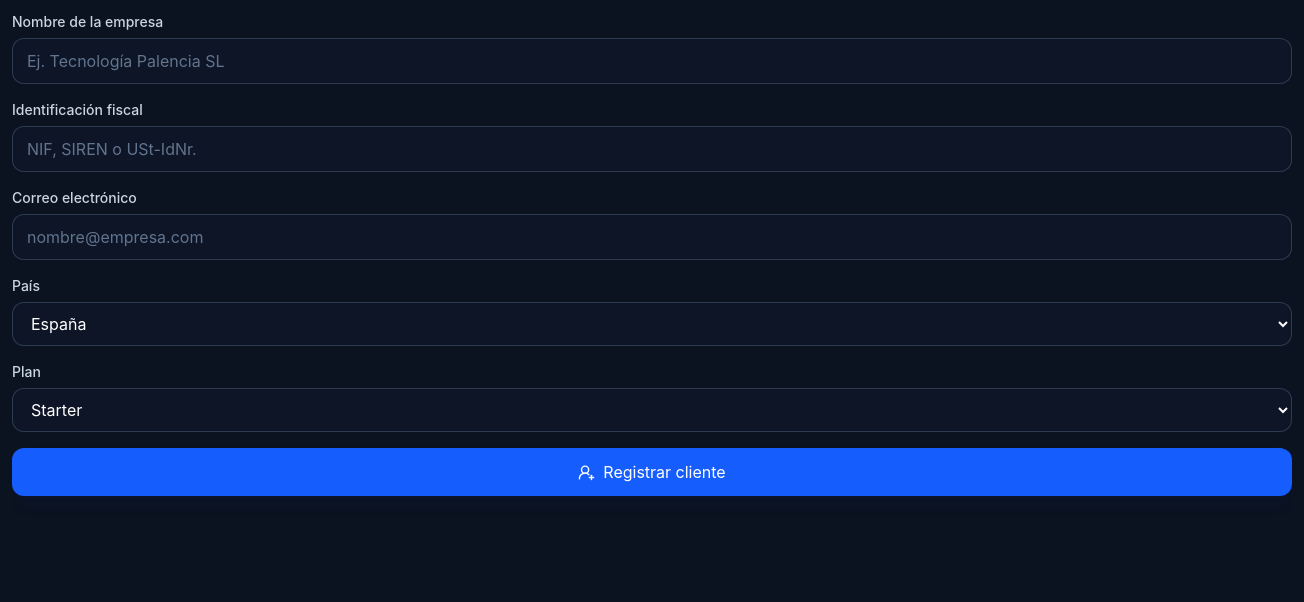
Test: CustomerForm validation feedback › identifies an invalid companyName field
The width and height of the screenshot is (1304, 602).
Step 1. Type "Empresa de prueba" into the field labelled "Nombre de la empresa" → (652, 61), box [12,38,1292,84]
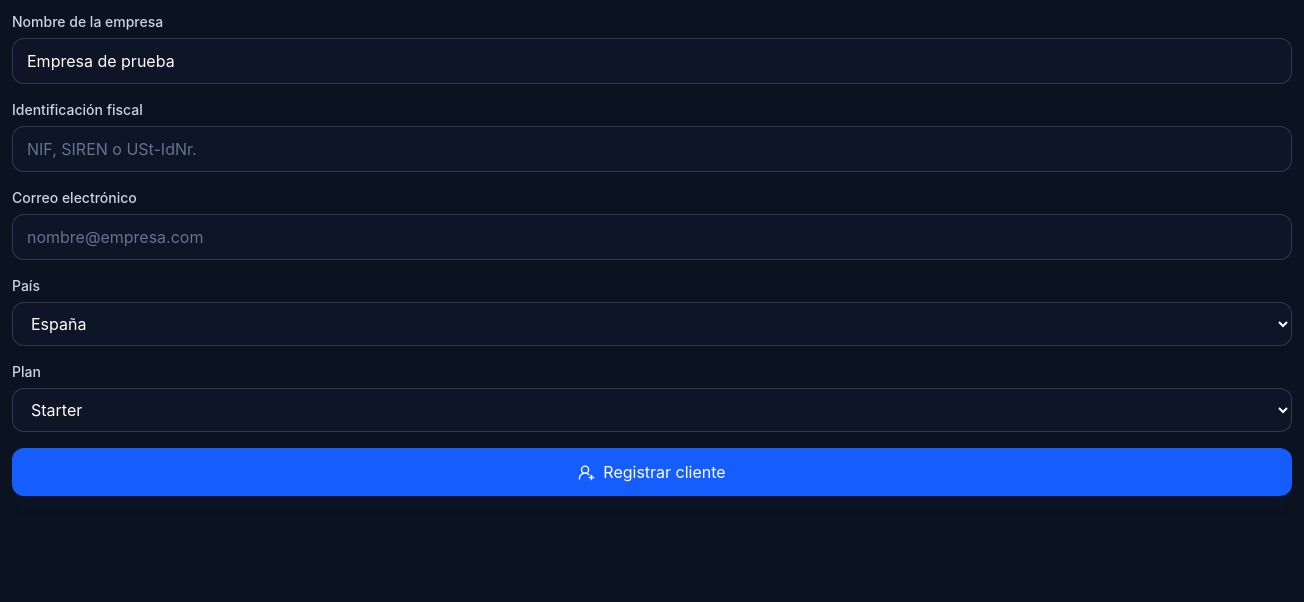
Step 2. Type "12345678Z" into the field labelled "Identificación fiscal" → (652, 149), box [12,126,1292,172]
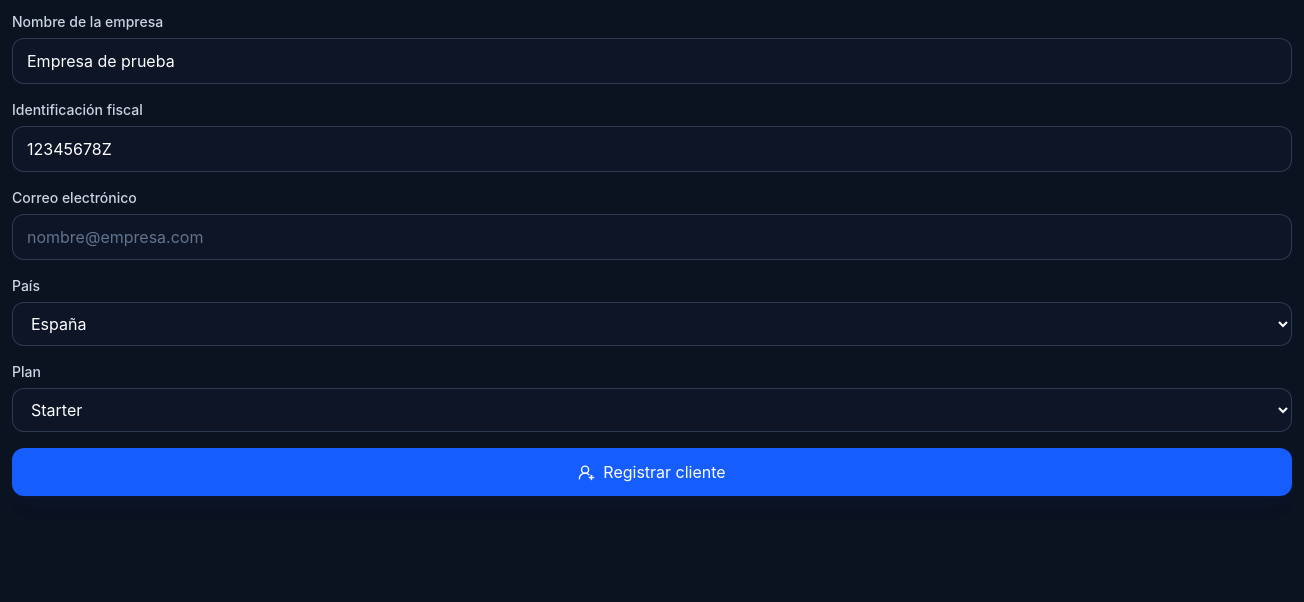
Step 3. Type "contacto@empresa.test" into the field labelled "Correo electrónico" → (652, 237), box [12,214,1292,260]
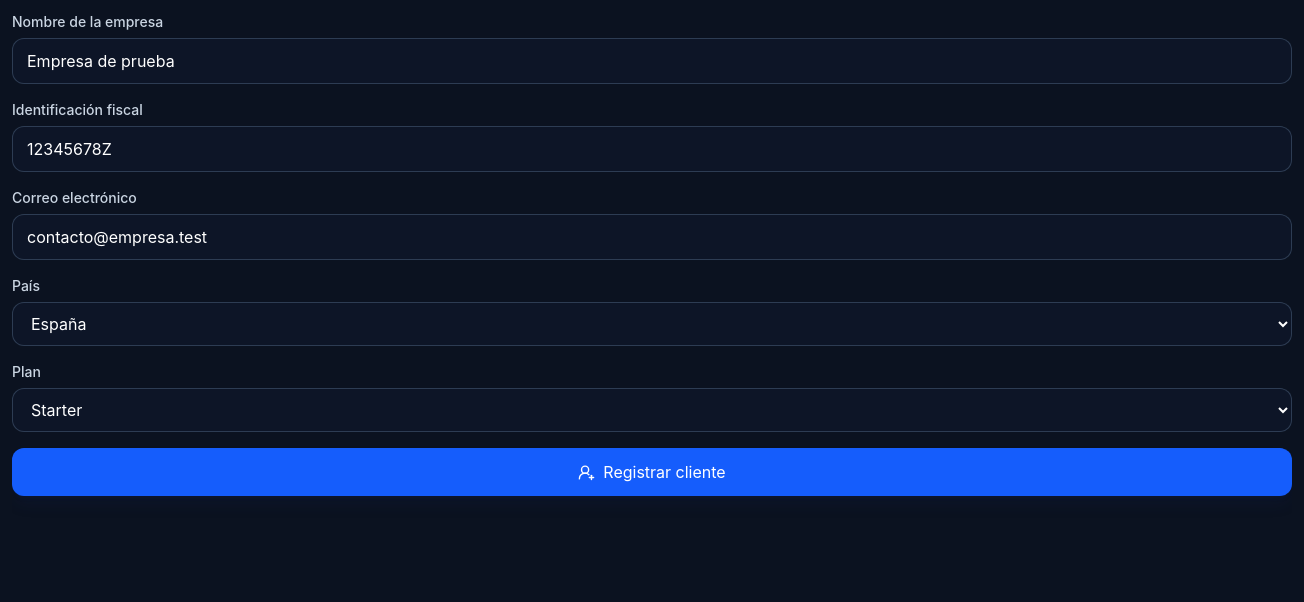
Step 4. Select "España" in the dropdown labelled "País" → (652, 324), box [12,302,1292,346]
Step 5. Submit the form named "Registrar cliente"
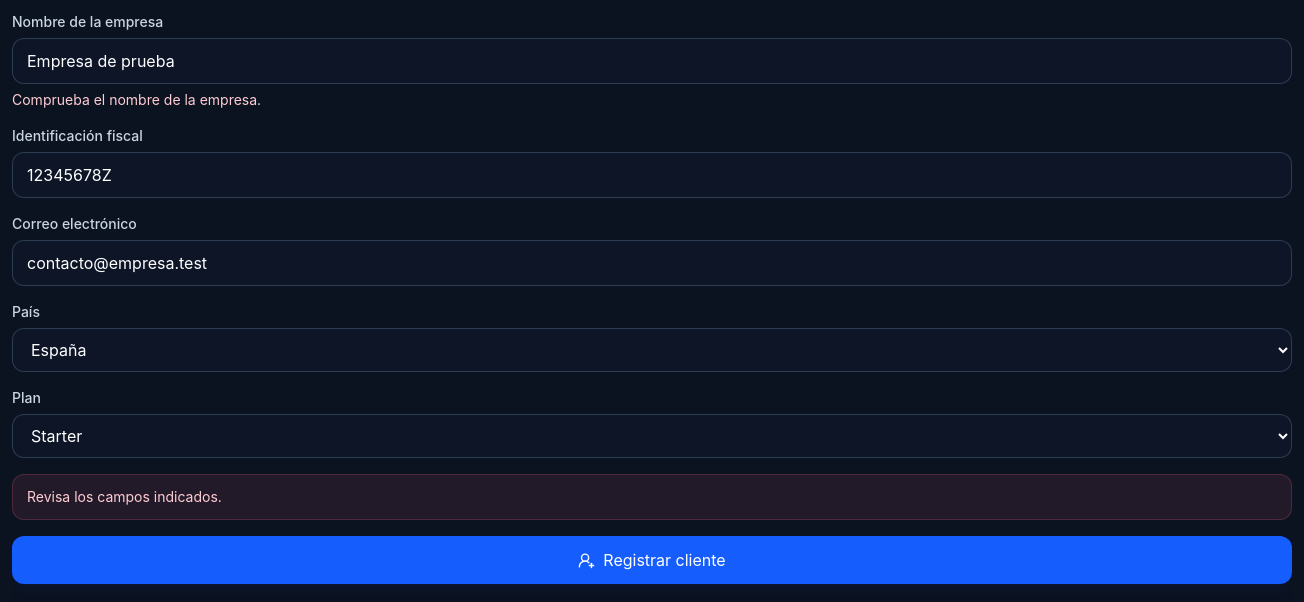
Expected: the text "Comprueba el nombre de la empresa." is shown, [12,91,261,108]
Expected: the message reads "Revisa los campos indicados.", [27,488,222,505]
